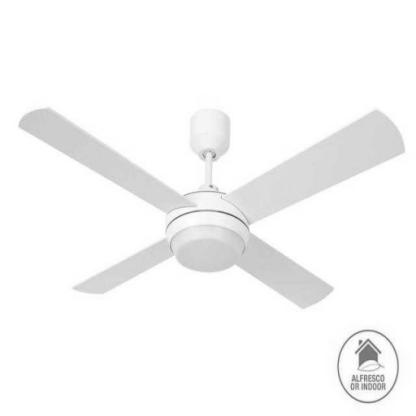ceiling-fan: (16, 104, 406, 310)
